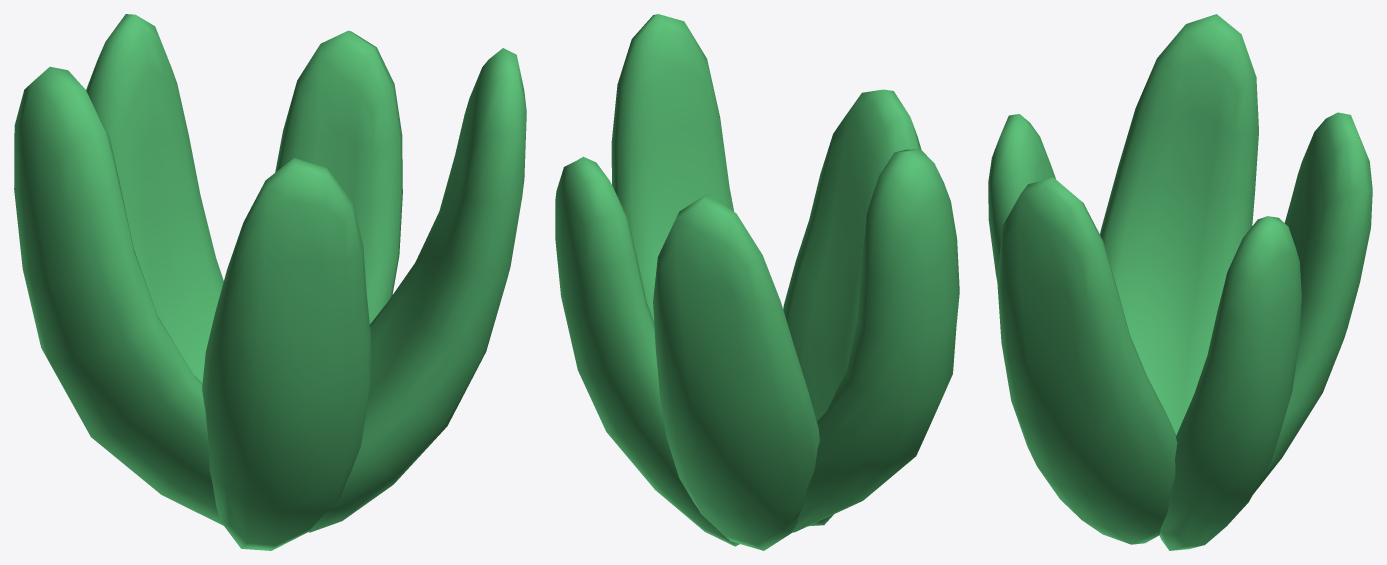
Rendered from Plant_A_03.fbx.
3 views of the same model, side by side, from view 1: azimuth 30°, elevation 25°; view 2: azimuth 150°, elevation 25°; view 3: azimuth 270°, elevation 25° (orthographic). The views are drawn at different scales.
Visible parts, largest first — view 1: Plant_A_03_LOD0; view 2: Plant_A_03_LOD0; view 3: Plant_A_03_LOD0.
Part boxes in pixels (x1,y1,x2,y2): Plant_A_03_LOD0: (14,14,526,550); Plant_A_03_LOD0: (555,14,959,550); Plant_A_03_LOD0: (988,14,1372,550).
Size of what is drawn, in the model's own units: 461 by 511 by 400.
